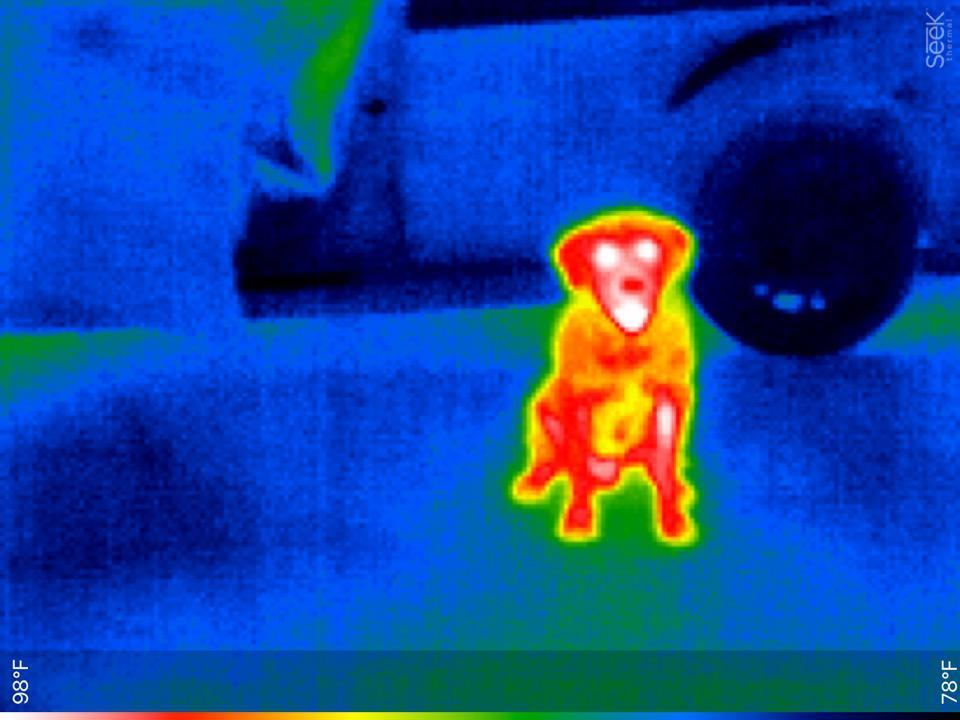dog: (507, 199, 710, 558)
